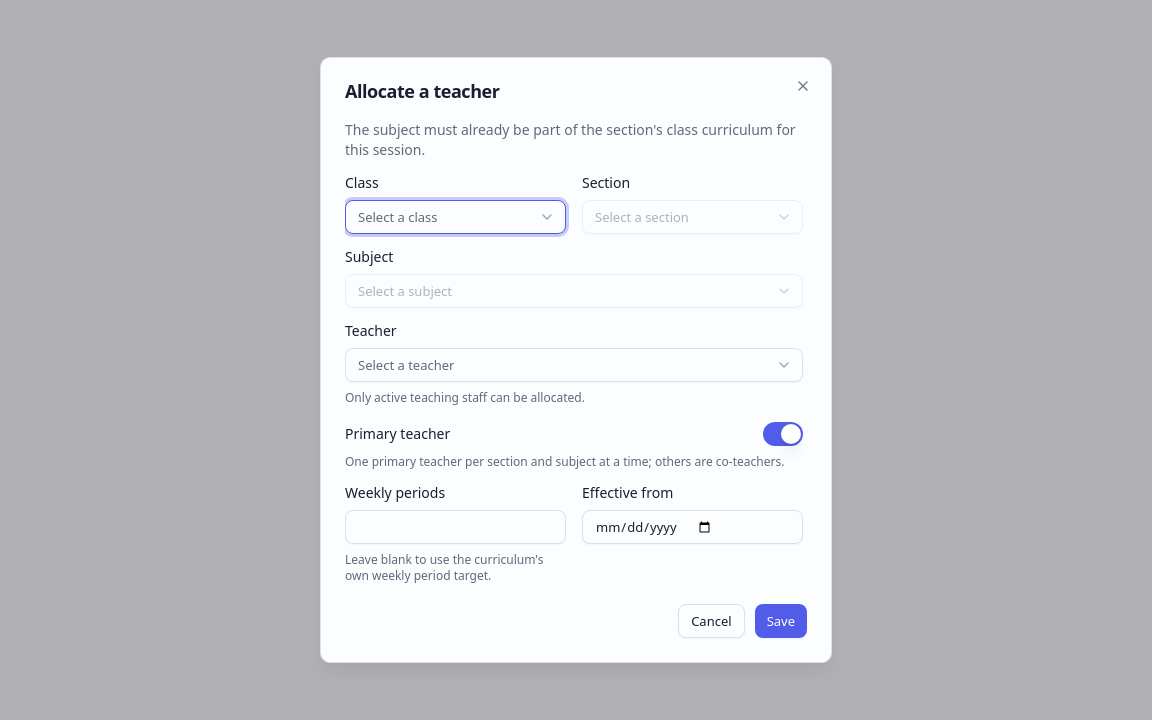
Scenario: AllocateTeacherDialog › the fields › offers the chosen class's active sections
Click the dropdown labelled "class".
click(456, 217)  # box [345,200,566,234]
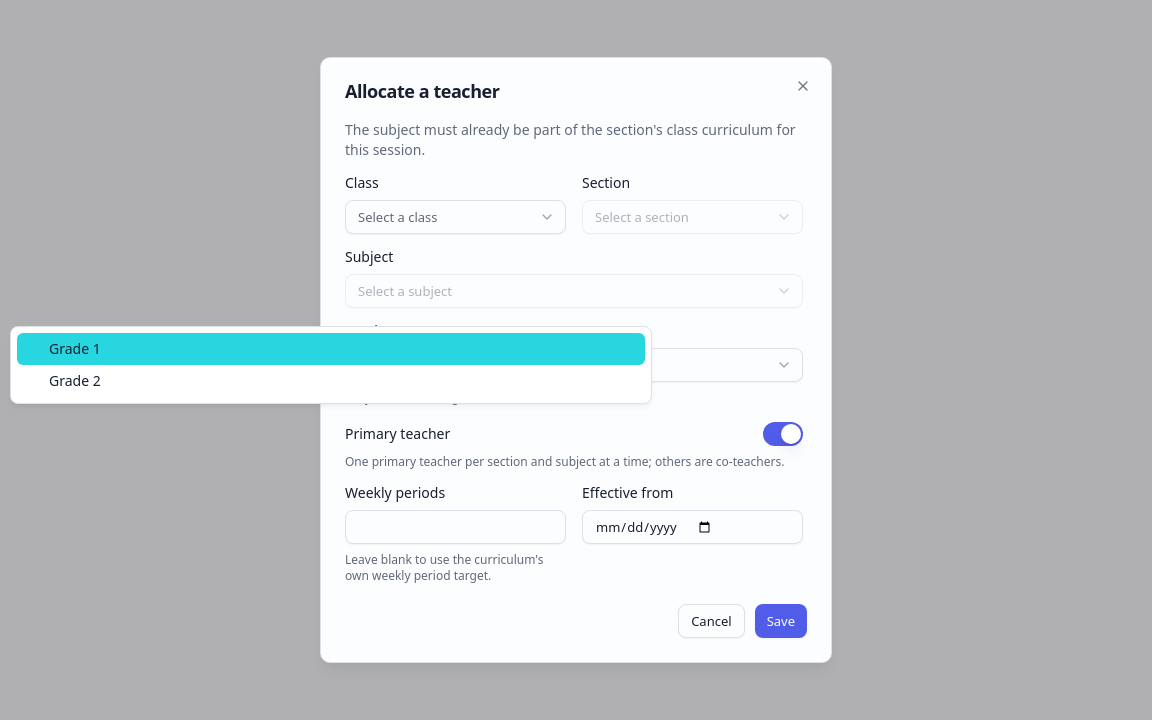
Click the option "Grade 1".
click(75, 348)  # box [17,333,645,365]
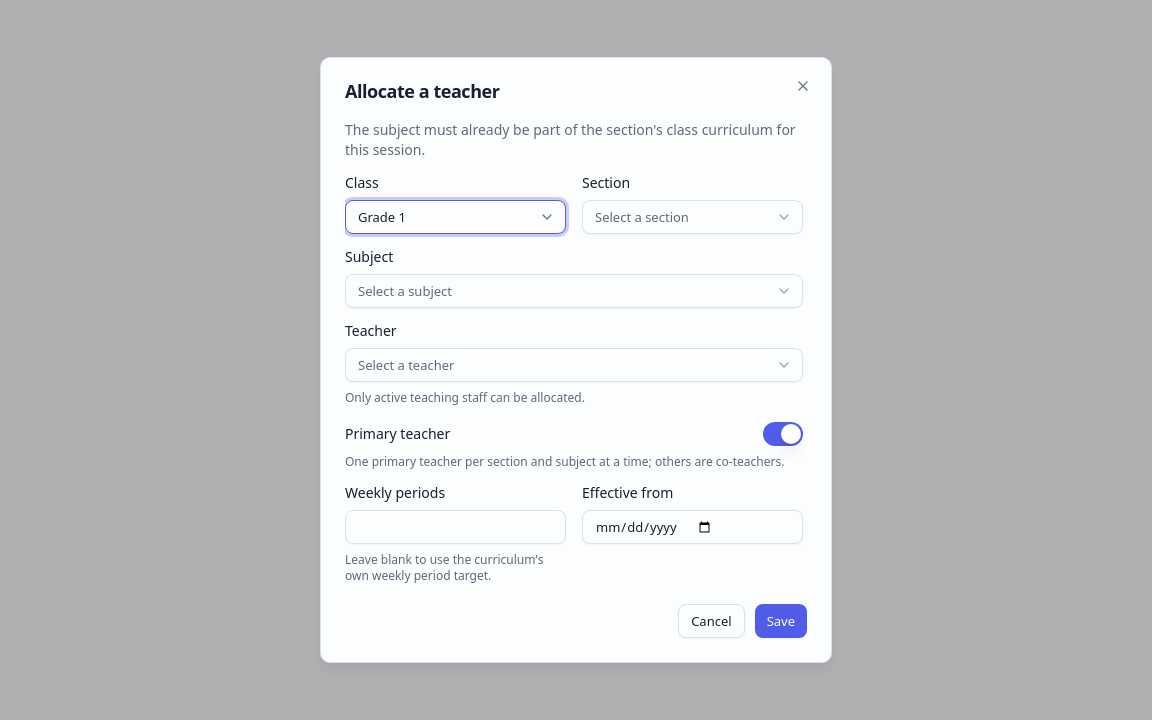
Click the dropdown labelled "section".
click(692, 217)  # box [582,200,803,234]
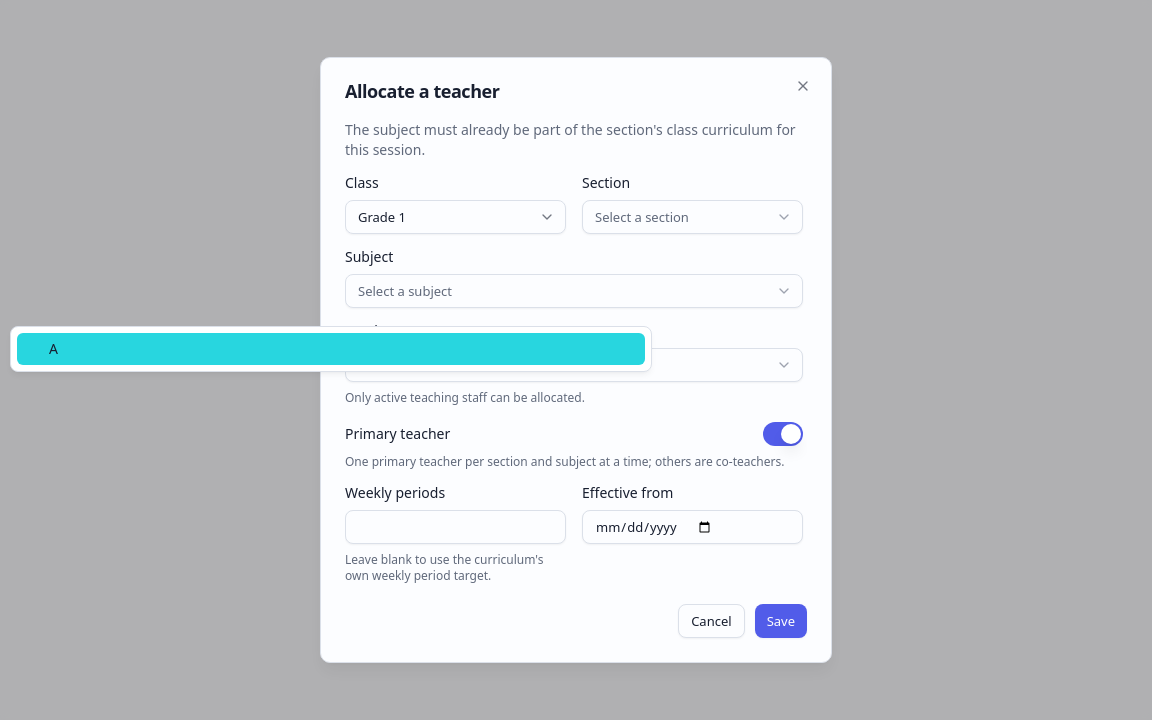
expect the option "A" is shown: met, box [17,333,645,365]
